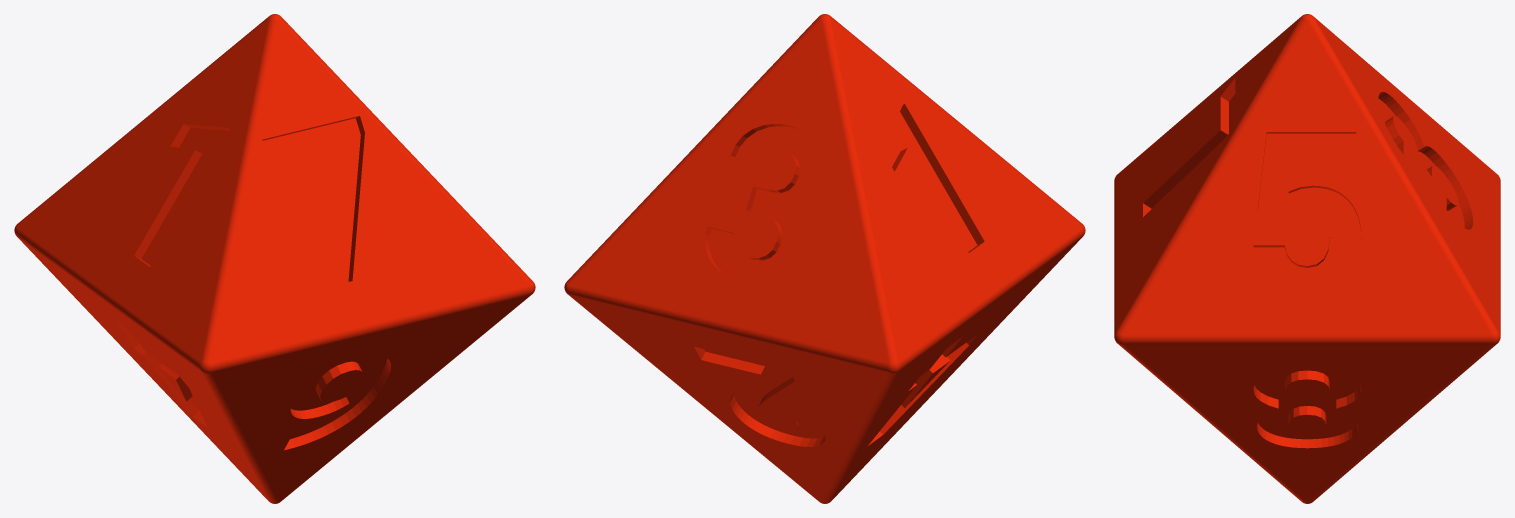
The model's file is DiceMakerD8_numbered.glb.
3 views of the same model, side by side, from view 1: azimuth 30°, elevation 25°; view 2: azimuth 150°, elevation 25°; view 3: azimuth 270°, elevation 25° (orthographic).
Parts seen in each view (by area): view 1: d8_3d_numbered_stl; view 2: d8_3d_numbered_stl; view 3: d8_3d_numbered_stl.
Part boxes in pixels (x1,y1,x2,y2): d8_3d_numbered_stl: (14,14,535,503); d8_3d_numbered_stl: (564,14,1085,503); d8_3d_numbered_stl: (1114,14,1500,503).
Size of the model in its own units: 4.7 by 6.56 by 4.7.
